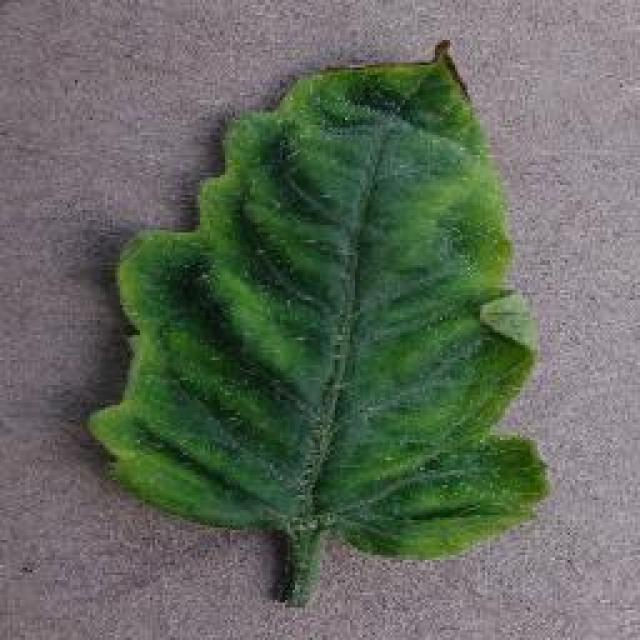Tomato yellow virus leaf: (84, 35, 548, 567)
